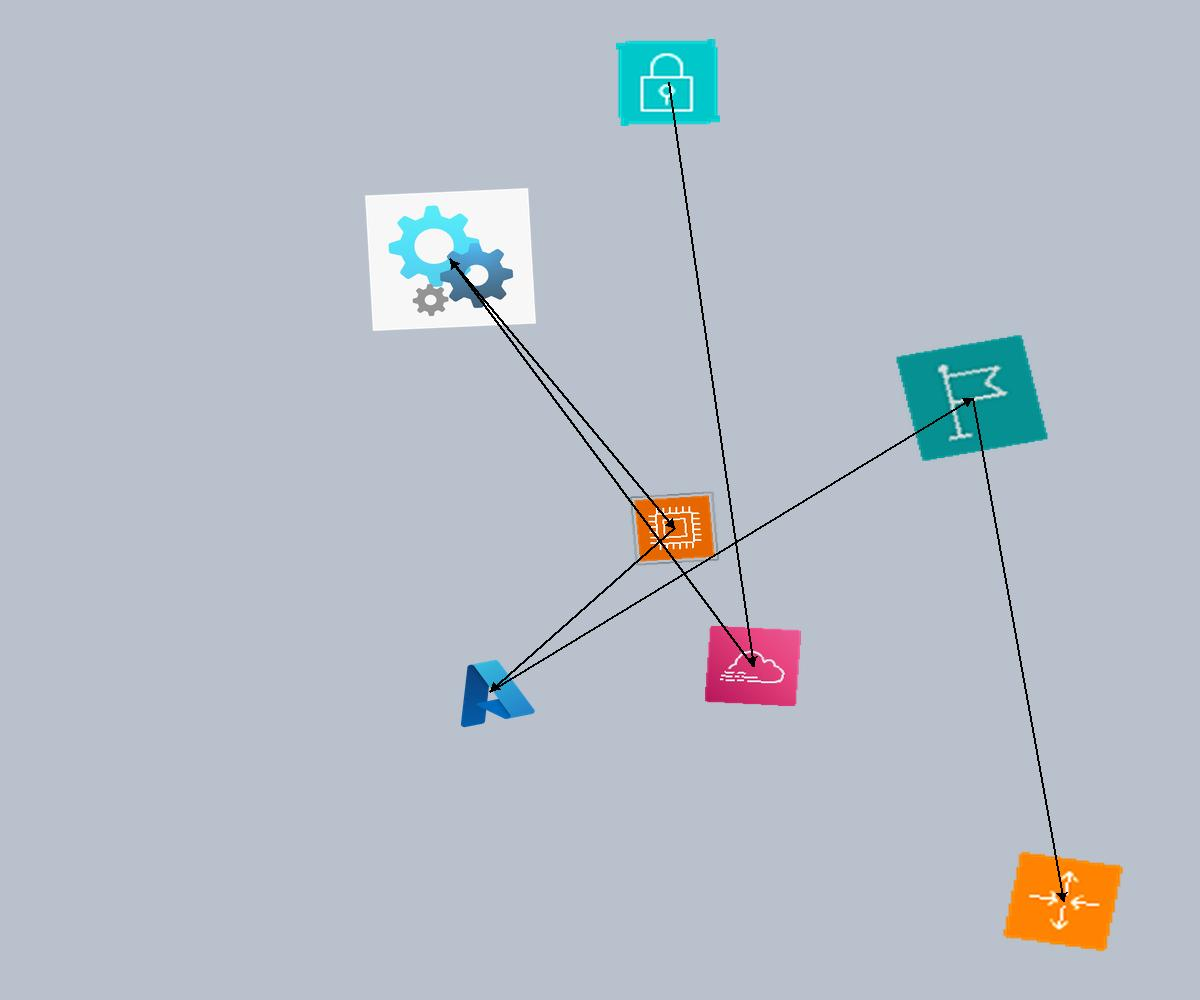AWS-Category_Compute: (629, 491, 720, 566)
AWS-CloudTrail: (704, 625, 802, 707)
AWS-Private-subnet: (616, 39, 720, 126)
AWS-Region: (895, 334, 1049, 462)
AWS-Scaling-group: (1001, 850, 1125, 953)
Azure_api: (365, 188, 536, 331)
Azure_services: (441, 650, 540, 733)
